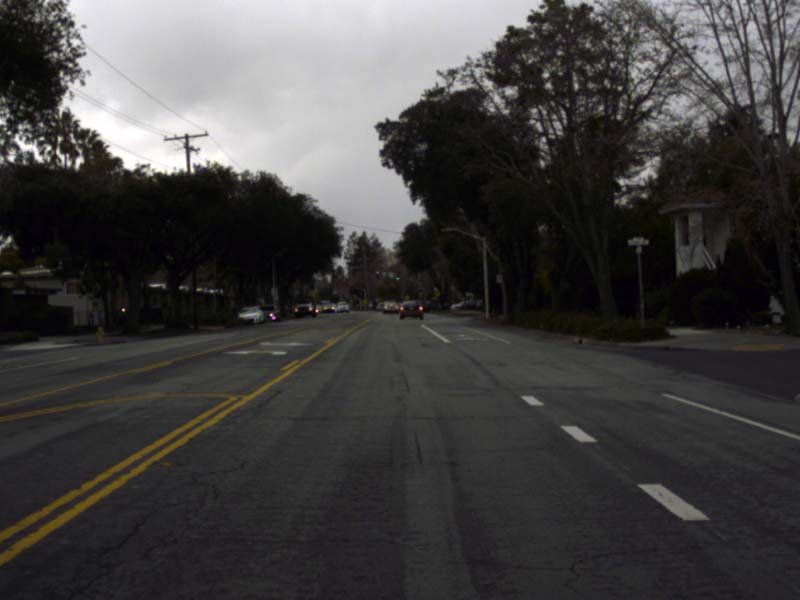Green: (348, 296, 351, 302), (396, 273, 398, 279), (333, 287, 335, 293), (420, 289, 422, 294)
Red: (376, 271, 378, 278)
